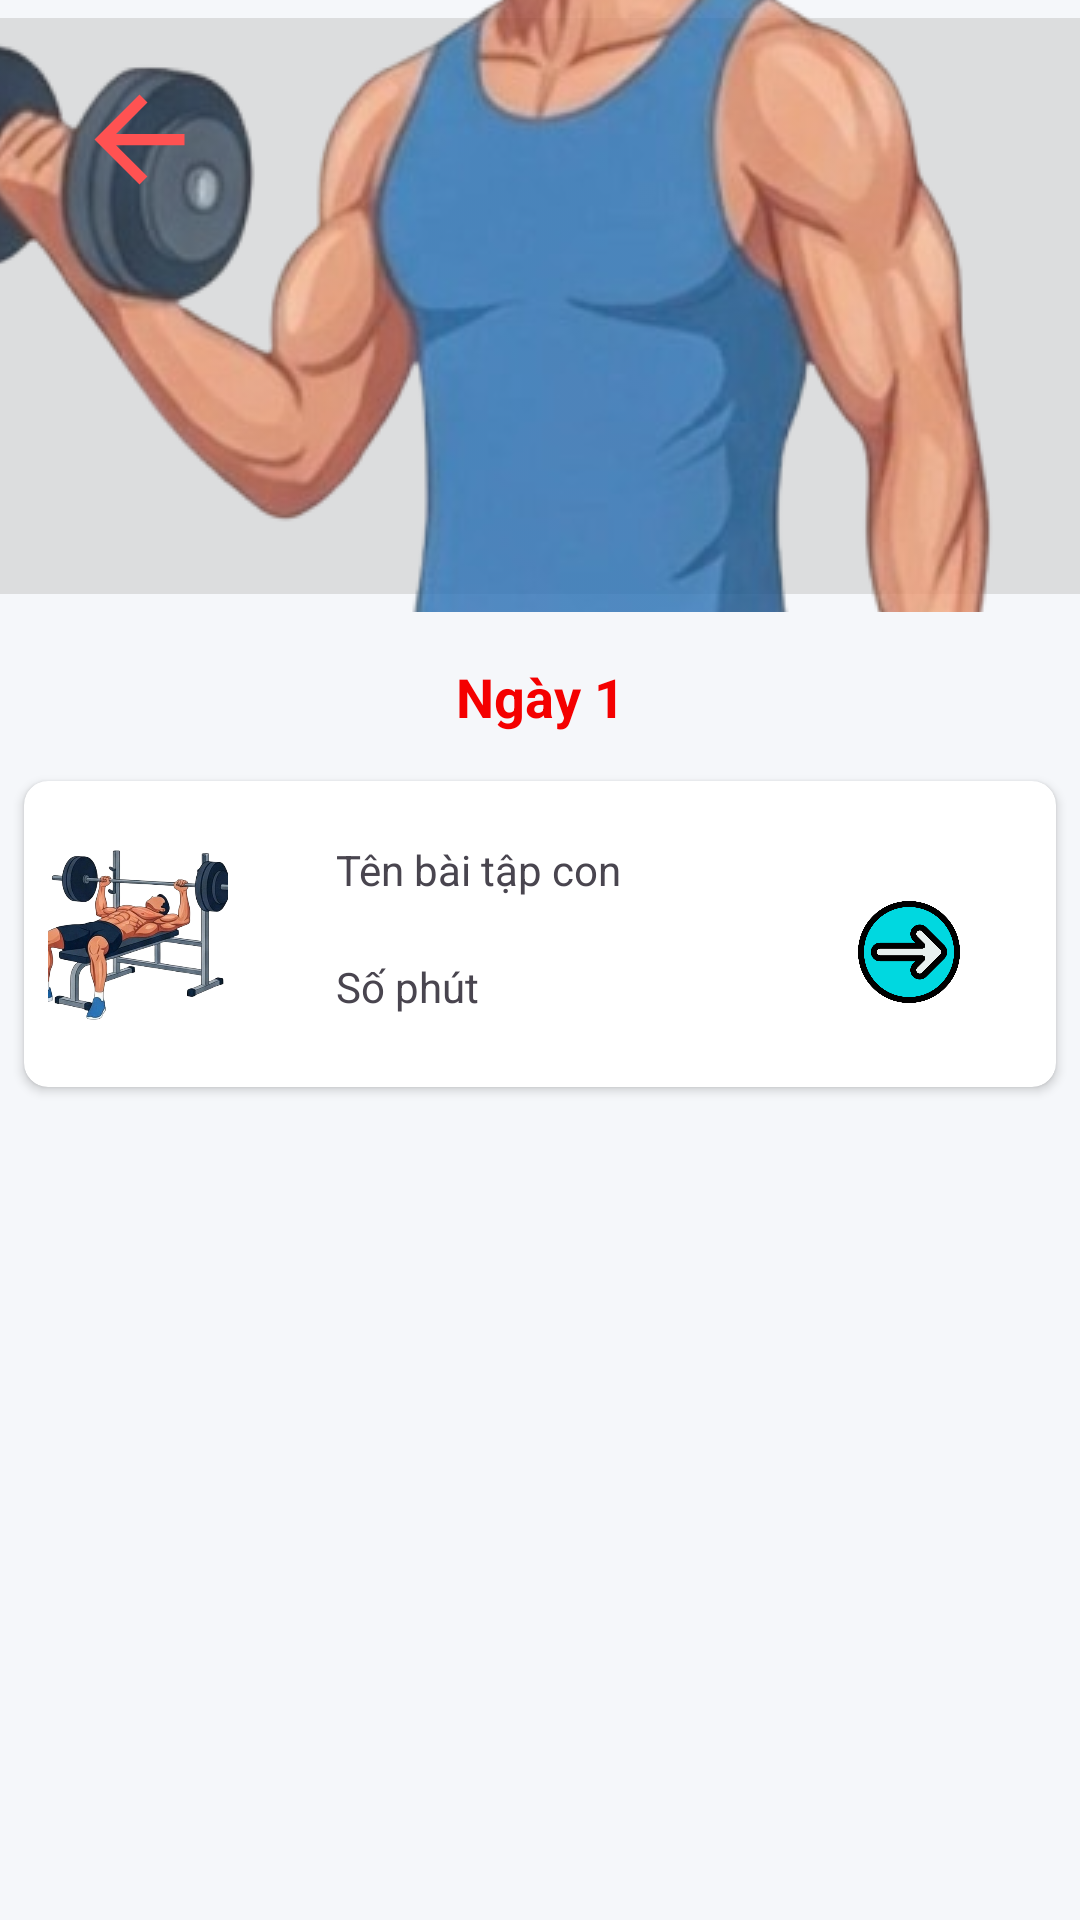

Where to tap for icons on this 1080 x 1920 app screen, as (x,y):
back: (139,139)
vungtapchung nguc: (138,935)
